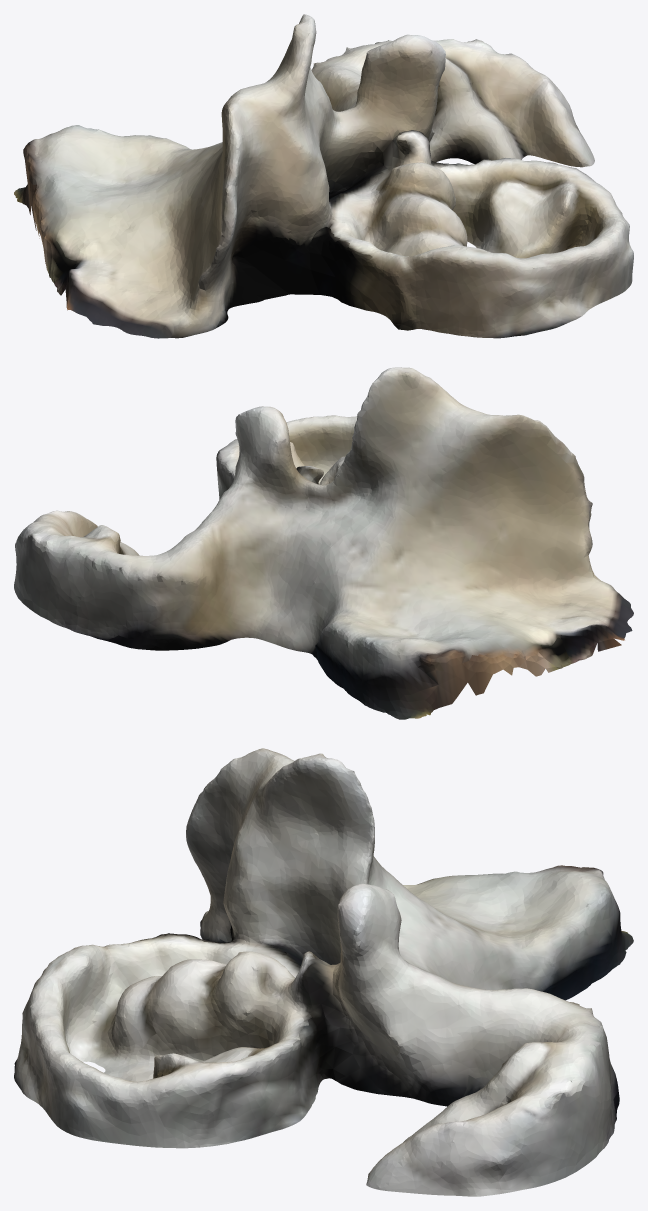
File: Amorph2.glb
The picture shows the model from 3 angles, top to bottom: view 1: azimuth 30°, elevation 25°; view 2: azimuth 150°, elevation 25°; view 3: azimuth 270°, elevation 25°; orthographic projection. The views are drawn at different scales.
Parts seen in each view (by area): view 1: Amorph; view 2: Amorph; view 3: Amorph.
Part boxes in pixels (<box>): Amorph: <box>14,14,633,338</box>; Amorph: <box>14,367,633,719</box>; Amorph: <box>14,748,633,1196</box>.
Size of the model in its own units: 0.2221 by 0.0878 by 0.1881.
Materials: 1 (1 with a texture image).
